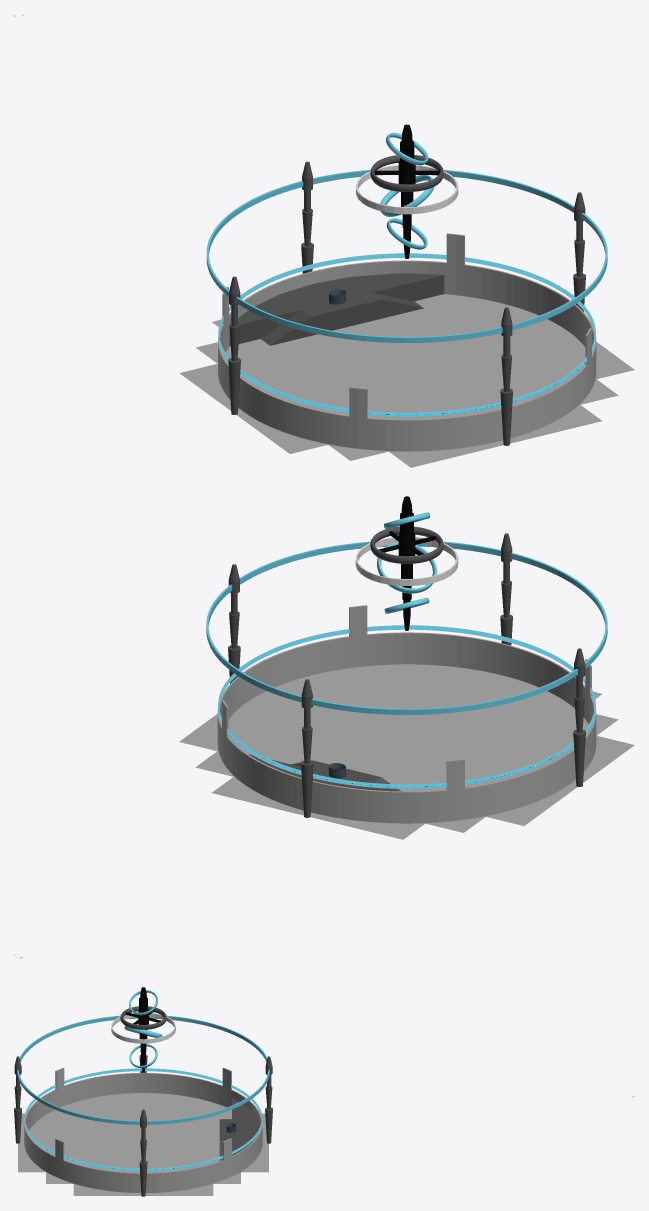
Rendered from test.arena.fbx.
The picture shows the model from 3 angles, top to bottom: view 1: azimuth 30°, elevation 25°; view 2: azimuth 150°, elevation 25°; view 3: azimuth 270°, elevation 25°; orthographic projection. The views are drawn at different scales.
Visible parts, largest first — view 1: Circle.001, Cube, Circle.006, Circle.002, Cylinder.004, Cylinder.006, Circle.005, Cylinder.008, Torus.002, Cylinder.009, Cylinder.007, Plane.001 (+29 smaller); view 2: Circle.001, Circle.006, Circle.002, Cylinder.004, Circle.005, Cylinder.009, Cylinder.008, Cube, Torus.002, Cylinder.006, Cylinder.007, Plane.031 (+29 smaller); view 3: Circle.001, Circle.006, Circle.002, Cube, Cylinder.004, Circle.005, Cylinder.007, Cylinder.009, Cylinder.006, Torus.002, Plane.033, Plane.034 (+18 smaller).
Boxes of the visible parts, x1,y1,x2,y2 form: Circle.001: [218, 233, 596, 451]; Cube: [229, 273, 444, 346]; Circle.006: [206, 169, 607, 342]; Circle.002: [218, 253, 595, 416]; Cylinder.004: [374, 124, 439, 258]; Cylinder.006: [500, 307, 512, 445]; Circle.005: [356, 165, 458, 214]; Cylinder.008: [228, 276, 240, 414]; Torus.002: [370, 155, 443, 192]; Cylinder.009: [301, 161, 313, 273]; Cylinder.007: [573, 192, 585, 311]; Plane.001: [415, 349, 475, 374]; Circle.001: [217, 605, 596, 823]; Circle.006: [206, 541, 607, 714]; Circle.002: [218, 625, 595, 788]; Cylinder.004: [379, 496, 435, 630]; Circle.005: [355, 536, 458, 585]; Cylinder.009: [301, 679, 313, 817]; Cylinder.008: [573, 648, 585, 786]; Cube: [248, 754, 401, 791]; Torus.002: [370, 526, 443, 563]; Cylinder.006: [500, 533, 512, 645]; Cylinder.007: [228, 564, 240, 683]; Plane.031: [344, 679, 404, 704]; Circle.001: [24, 1067, 262, 1192]; Circle.006: [17, 1015, 269, 1124]; Circle.002: [24, 1068, 262, 1171]; Cube: [219, 1098, 260, 1160]; Cylinder.004: [125, 987, 160, 1071]; Circle.005: [111, 1013, 175, 1043]; Cylinder.007: [139, 1109, 147, 1196]; Cylinder.009: [265, 1056, 272, 1143]; Cylinder.006: [14, 1056, 21, 1143]; Torus.002: [120, 1006, 166, 1029]; Plane.033: [101, 1148, 129, 1160]; Plane.034: [157, 1148, 185, 1160].
Size of the model in its own units: 7432 by 4901 by 17813.
